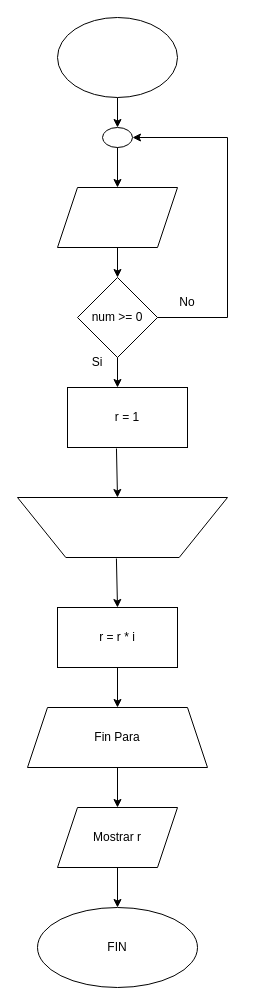
Some shapes in this 253 by 1005 pixel diagram are drawn without their labels. Each missing label, with the centre of its shape:
"Inicio" belongs at (117,57).
"Para i =1 Hasta num con paso 1" belongs at (122,527).
"Solicitar num" belongs at (117,217).
